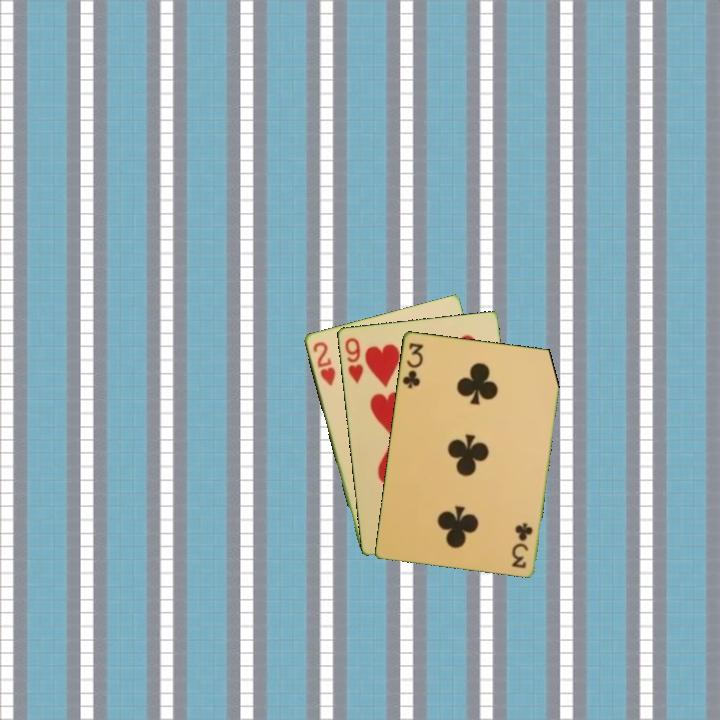2h: (309, 338, 338, 389)
3c: (399, 339, 426, 391), (509, 519, 535, 571)
9h: (341, 334, 366, 386)
